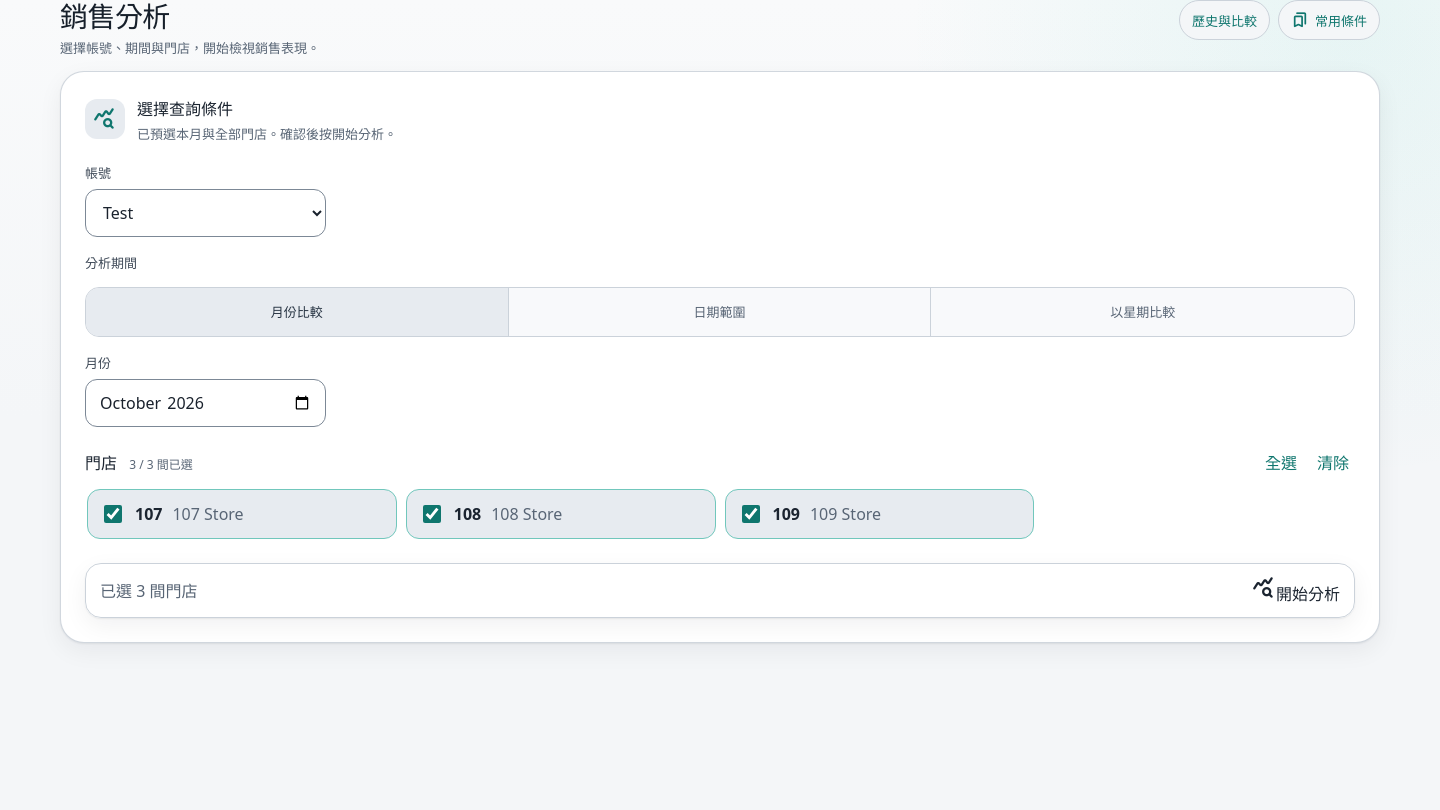
Test: complete analysis tools › opens ranking details, switches periods, exports the detail scope, and restores focus without rerunning
The image size is (1440, 810).
expect the text "107 Store" is shown: met, box [172, 503, 244, 525]
Step 1. Click the text "開始分析" → (1296, 590), box [1252, 576, 1340, 605]
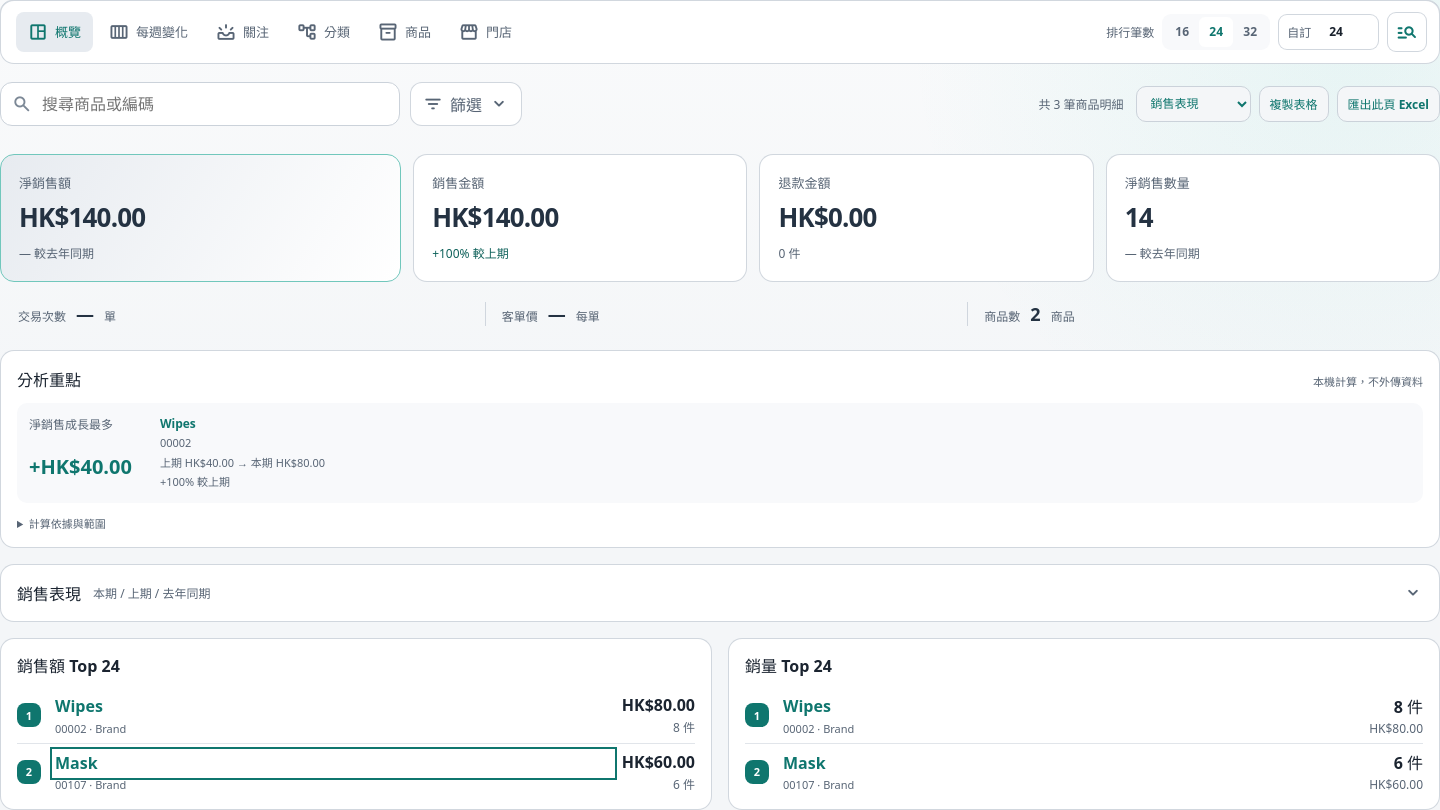
expect the heading "銷售額 Top 24" is shown: met, box [17, 654, 120, 678]
Step 2. Click the button with aria-label "查看商品詳情：Mask" → (76, 763), box [55, 752, 612, 775]
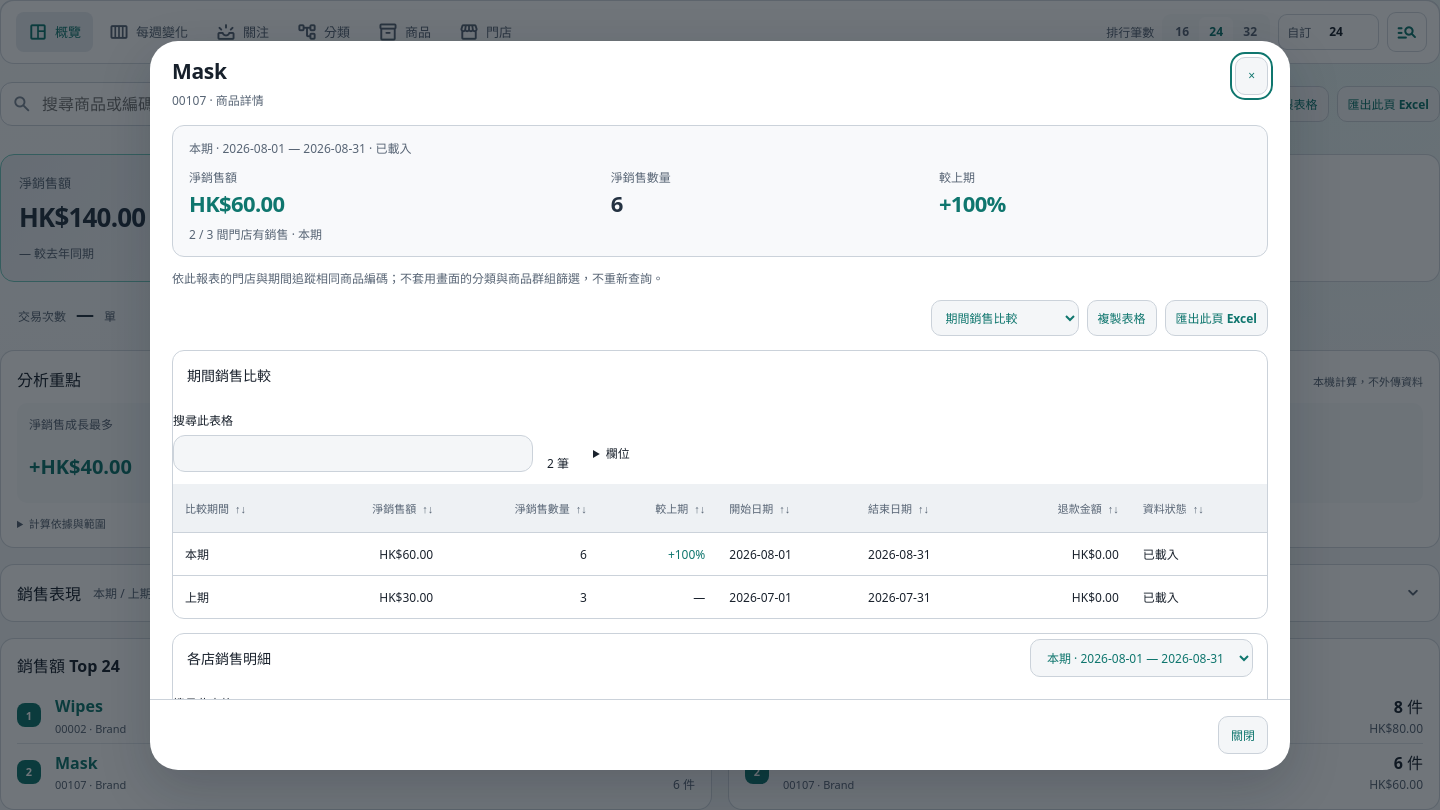
expect the heading "期間銷售比較" is shown: met, box [187, 366, 271, 385]
expect the number of tables is 2: met
expect the element named "本期銷售摘要" shows "淨銷售額": met, box [189, 168, 237, 186]
Step 3. Select "上期 · 2026-07-01 — 2026-07-31" in the dropdown named "門店明細期間" → (1142, 658), box [1030, 639, 1253, 677]
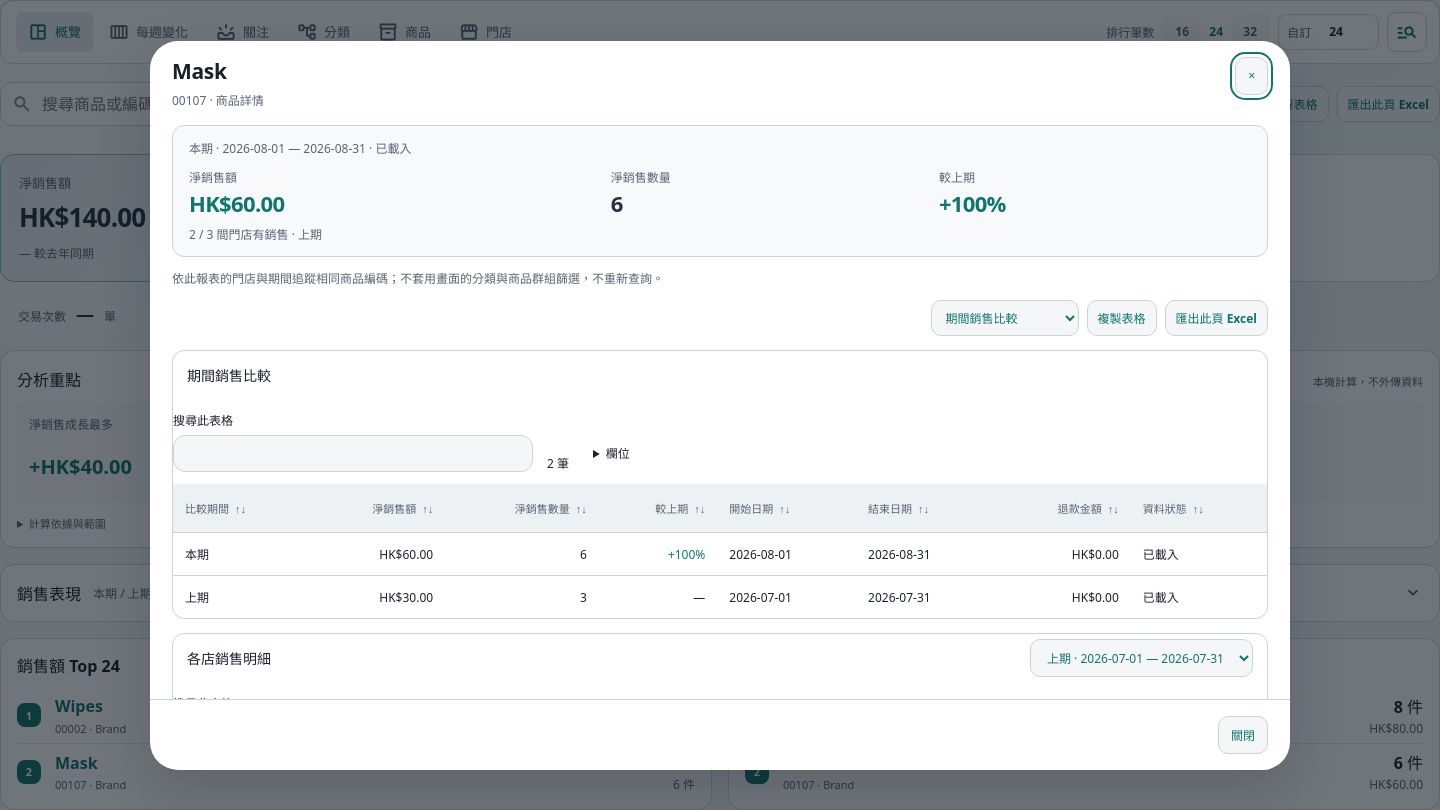
Step 4. Click the button "匯出此頁 Excel" → (1216, 318), box [1164, 300, 1268, 336]
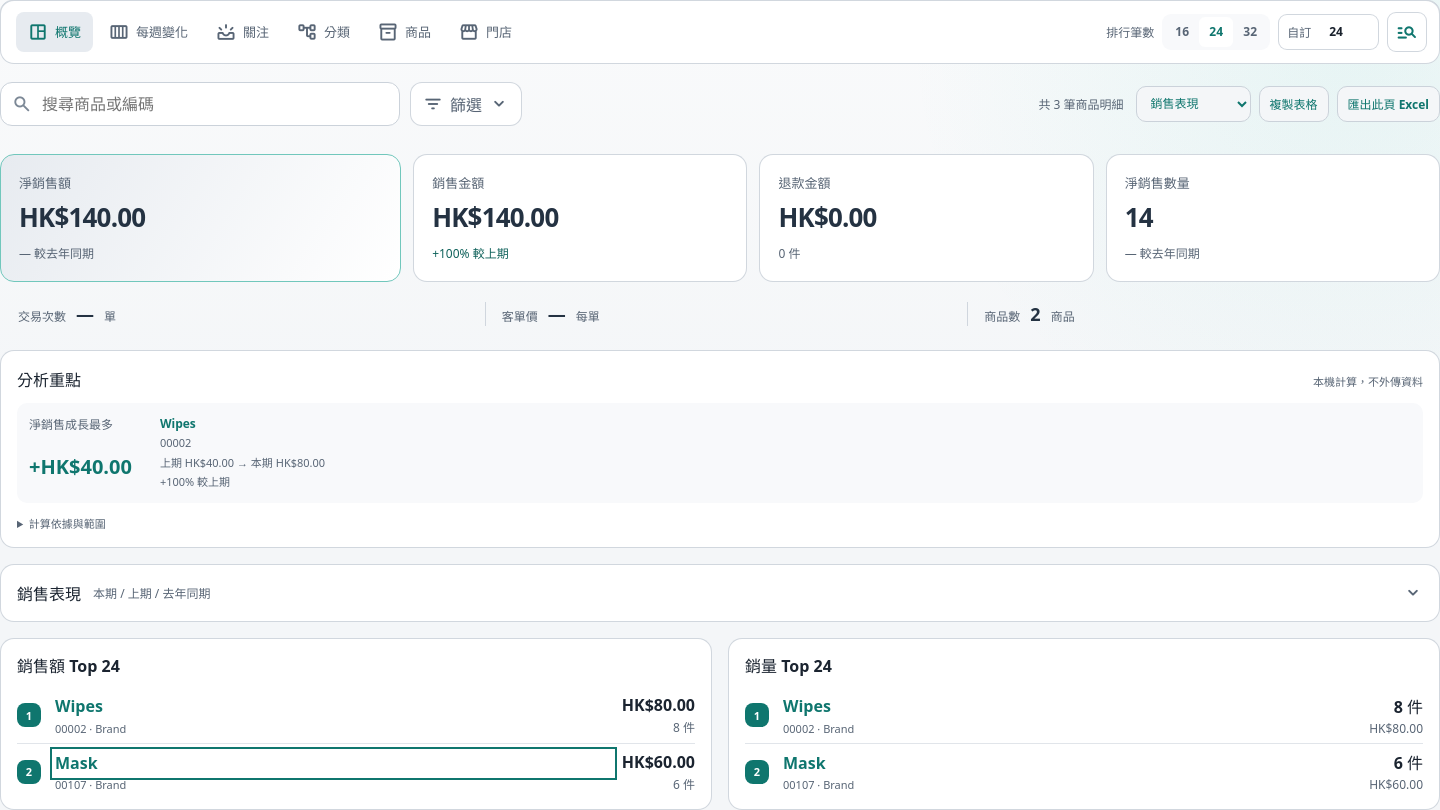
expect the dialog is gone: met
